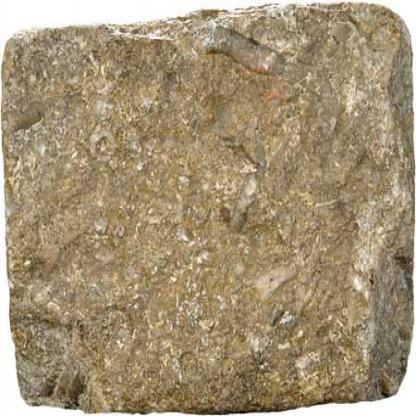Sedimentary_Limestone: (2, 11, 415, 415)
